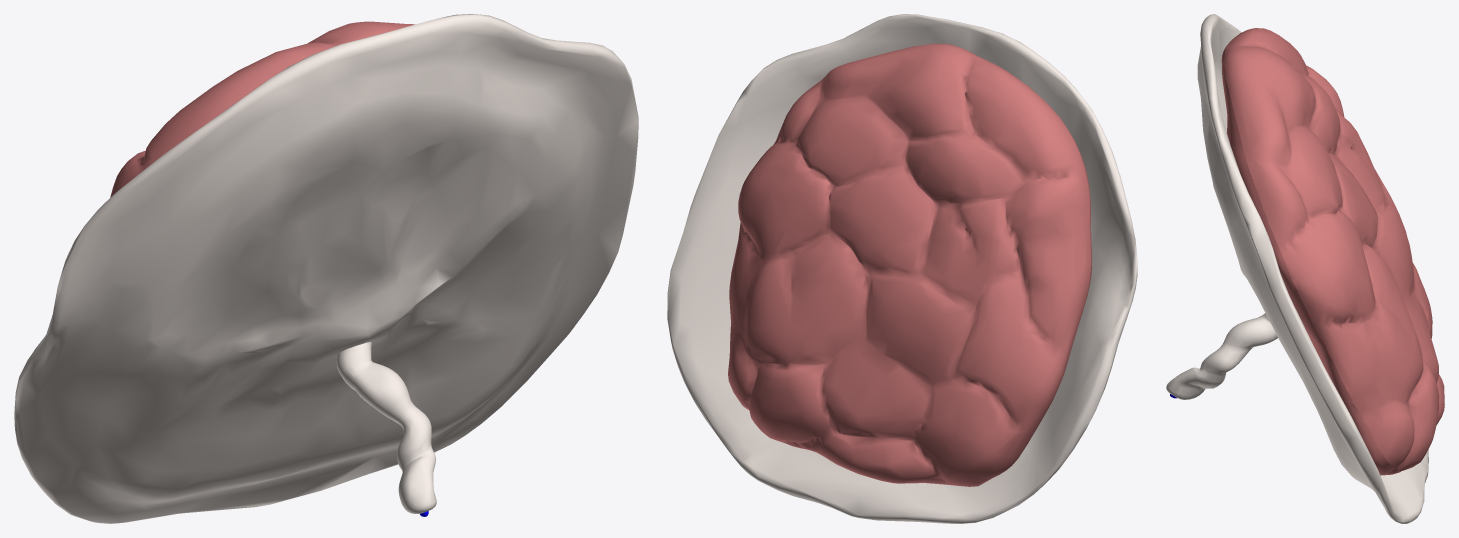
Rendered from vh_f_placenta-20.glb.
The picture shows the model from 3 angles, left to right: view 1: azimuth 30°, elevation 25°; view 2: azimuth 150°, elevation 25°; view 3: azimuth 270°, elevation 25°; orthographic projection. The views are drawn at different scales.
Parts seen in each view (by area): view 1: VH_F_amnion, VH_F_basal_plate, VH_F_umbilical_cord; view 2: VH_F_basal_plate, VH_F_amnion; view 3: VH_F_basal_plate, VH_F_amnion, VH_F_chorionic_plate, VH_F_umbilical_cord.
Boxes of the visible parts, x1,y1,x2,y2 form: VH_F_amnion: (14,14,638,523); VH_F_basal_plate: (110,21,414,197); VH_F_umbilical_cord: (336,342,436,513); VH_F_basal_plate: (728,43,1090,486); VH_F_amnion: (667,14,1137,523); VH_F_basal_plate: (1224,28,1444,471); VH_F_amnion: (1197,14,1428,523); VH_F_chorionic_plate: (1221,46,1400,475); VH_F_umbilical_cord: (1166,313,1277,399).
Size of the model in its own units: 0.251 by 0.2307 by 0.1338.
